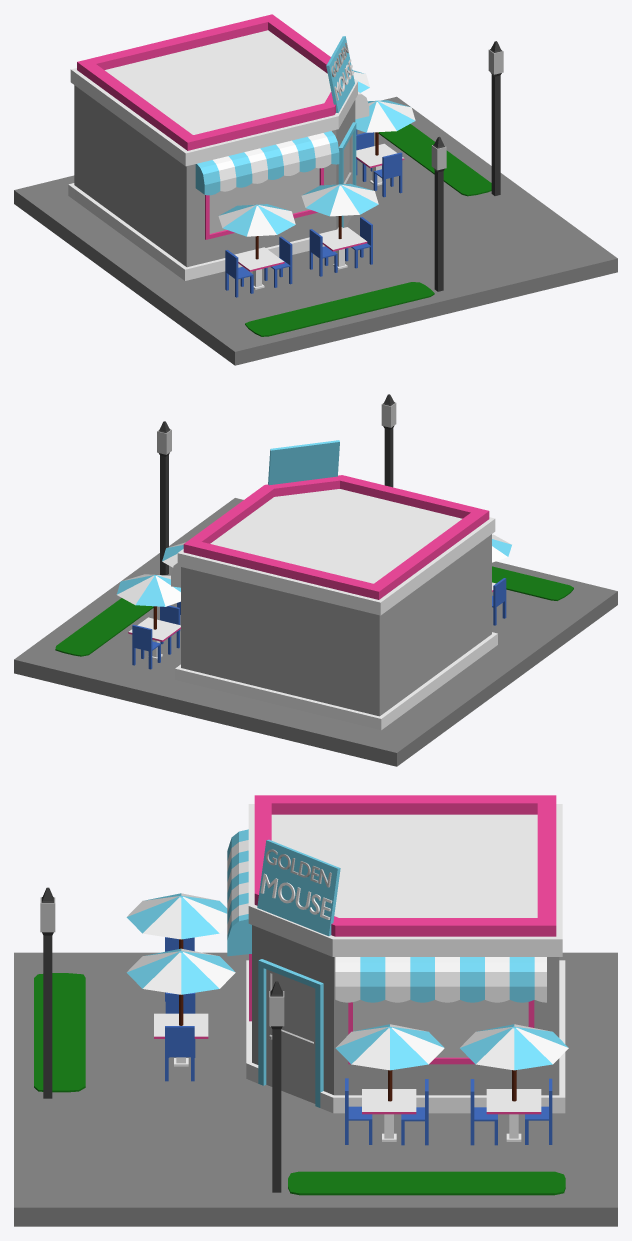
Rendered from shop.obj.
3 renders of one model, top to bottom at view 1: azimuth 30°, elevation 25°; view 2: azimuth 150°, elevation 25°; view 3: azimuth 270°, elevation 25°, orthographic. The views are drawn at different scales.
Visible parts, largest first — view 1: поверхность_Плоскость, крыша_Куб.005, стены_Куб.004, столы_Куб.012, кровля_Куб.008, Плоскость.001_Плоскость.004, травка1_Плоскость.003, окно1_Куб.007, фундамент_Куб.003, травка2_Плоскость.001, Куб.007_Куб.093, Куб.008_Куб.095 (+9 smaller); view 2: стены_Куб.004, поверхность_Плоскость, крыша_Куб.005, кровля_Куб.008, фундамент_Куб.003, столы_Куб.012, табличка_Куб, травка2_Плоскость.001, травка1_Плоскость.003, Куб.007_Куб.093, стулья.002_Куб.023, Куб.008_Куб.095; view 3: поверхность_Плоскость, крыша_Куб.005, столы_Куб.012, кровля_Куб.008, стены_Куб.004, Плоскость_Плоскость.002, травка2_Плоскость.001, окно2_Куб.009, травка1_Плоскость.003, дверь_Куб.011, табличка_Куб, фундамент_Куб.003 (+12 smaller).
Part boxes in pixels (x1=…): поверхность_Плоскость: x1=14, y1=96, x2=617, y2=365; крыша_Куб.005: x1=70, y1=30, x2=357, y2=166; стены_Куб.004: x1=74, y1=85, x2=355, y2=267; столы_Куб.012: x1=218, y1=70, x2=415, y2=289; кровля_Куб.008: x1=77, y1=14, x2=335, y2=150; Плоскость.001_Плоскость.004: x1=195, y1=131, x2=339, y2=195; травка1_Плоскость.003: x1=245, y1=282, x2=434, y2=336; окно1_Куб.007: x1=209, y1=168, x2=319, y2=233; фундамент_Куб.003: x1=68, y1=183, x2=342, y2=280; травка2_Плоскость.001: x1=378, y1=124, x2=491, y2=196; Куб.007_Куб.093: x1=490, y1=41, x2=501, y2=195; Куб.008_Куб.095: x1=433, y1=136, x2=445, y2=291; стены_Куб.004: x1=181, y1=534, x2=491, y2=716; поверхность_Плоскость: x1=14, y1=498, x2=617, y2=766; крыша_Куб.005: x1=177, y1=489, x2=495, y2=615; кровля_Куб.008: x1=183, y1=475, x2=489, y2=599; фундамент_Куб.003: x1=175, y1=632, x2=497, y2=730; столы_Куб.012: x1=116, y1=534, x2=511, y2=659; табличка_Куб: x1=268, y1=440, x2=339, y2=485; травка2_Плоскость.001: x1=55, y1=598, x2=153, y2=656; травка1_Плоскость.003: x1=492, y1=566, x2=573, y2=600; Куб.007_Куб.093: x1=158, y1=421, x2=170, y2=575; стулья.002_Куб.023: x1=132, y1=624, x2=160, y2=669; Куб.008_Куб.095: x1=383, y1=394, x2=394, y2=487; поверхность_Плоскость: x1=14, y1=952, x2=617, y2=1226; крыша_Куб.005: x1=248, y1=804, x2=562, y2=956; столы_Куб.012: x1=126, y1=893, x2=568, y2=1141; кровля_Куб.008: x1=254, y1=795, x2=556, y2=936; стены_Куб.004: x1=252, y1=925, x2=559, y2=1095; Плоскость_Плоскость.002: x1=335, y1=957, x2=546, y2=1002; травка2_Плоскость.001: x1=288, y1=1171, x2=565, y2=1195; окно2_Куб.009: x1=353, y1=1000, x2=528, y2=1057; травка1_Плоскость.003: x1=34, y1=973, x2=85, y2=1092; дверь_Куб.011: x1=266, y1=969, x2=315, y2=1103; табличка_Куб: x1=257, y1=839, x2=340, y2=936; фундамент_Куб.003: x1=246, y1=960, x2=565, y2=1113.
Size of the model in its own units: 60.76 by 28.35 by 60.76.
